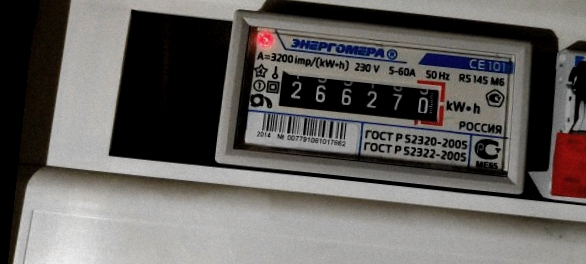0: (414, 94, 430, 115)
2: (288, 78, 303, 101), (364, 88, 379, 110)
6: (312, 82, 326, 104), (338, 86, 353, 106)
7: (390, 91, 402, 111)
screen: (265, 59, 453, 133)
